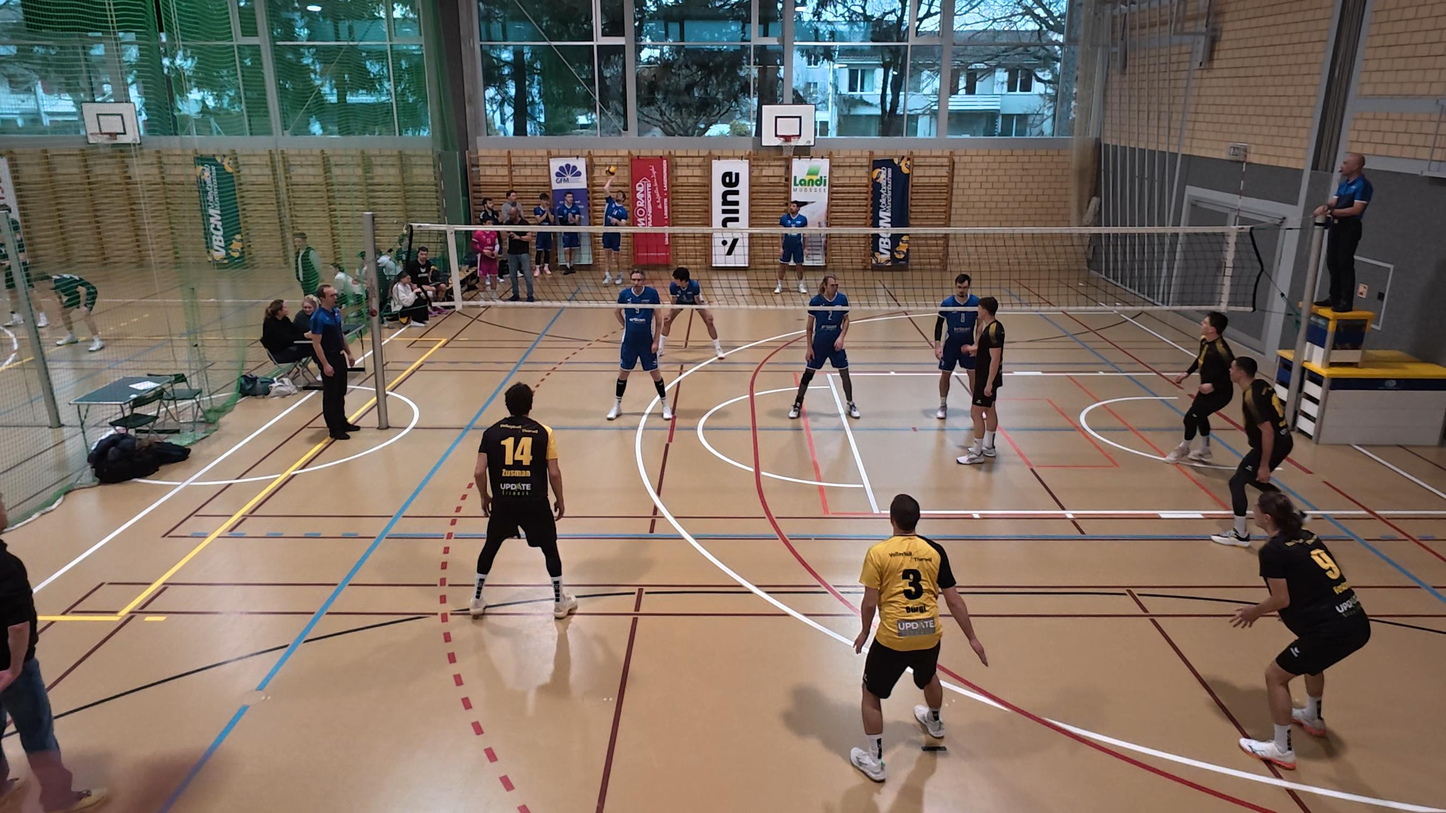Player: (849, 494, 987, 781), (1230, 489, 1371, 769), (465, 384, 577, 619), (1210, 357, 1295, 547), (787, 275, 859, 419), (606, 269, 673, 420), (1170, 310, 1235, 463), (955, 295, 1005, 465), (928, 273, 976, 421), (660, 265, 723, 359), (774, 199, 811, 294)
Serve: (594, 164, 631, 295)
ball: (604, 163, 619, 178)
